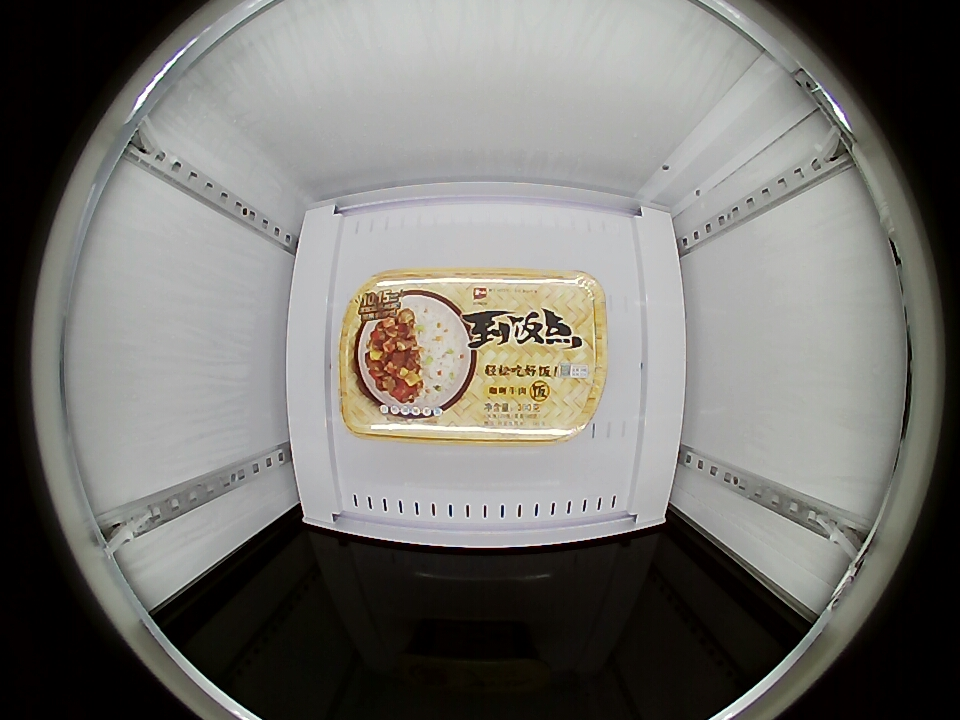daofandian2: (335, 269, 609, 444)
